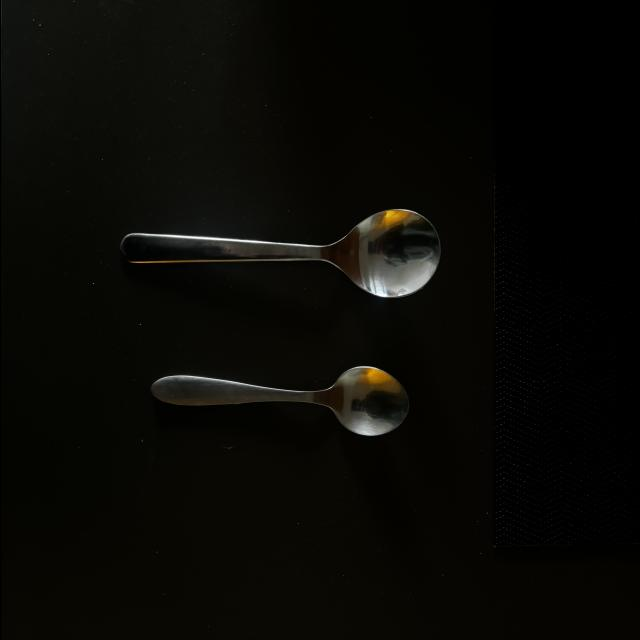spoon: (118, 206, 440, 298), (147, 366, 409, 439)
